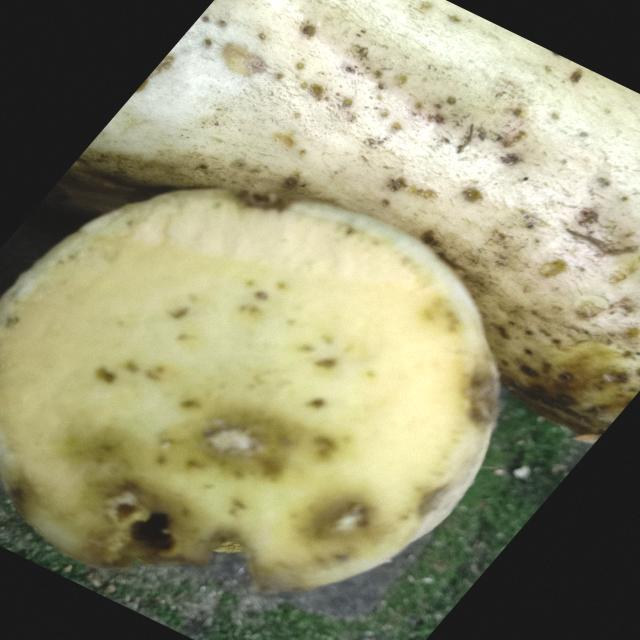Sick Sweet Potato_Tuber Rot: (2, 189, 498, 594)
